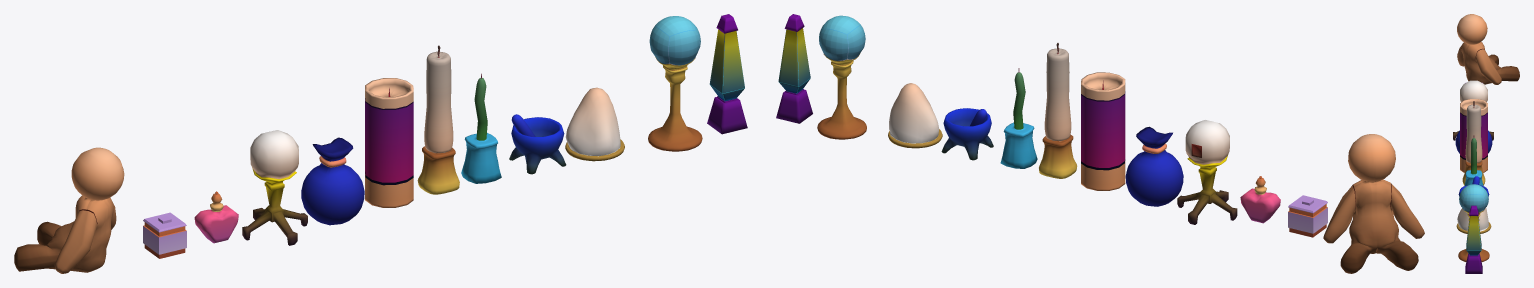
The model's file is Products.fbx.
3 renders of one model, left to right at view 1: azimuth 30°, elevation 25°; view 2: azimuth 150°, elevation 25°; view 3: azimuth 270°, elevation 25°, orthographic. The views are drawn at different scales.
Parts seen in each view (by area): view 1: VoodooDoll, SpiritCandle, MagicBall, CHONKYCandle, BagOlCrystals, MagicEye, LavaLamp, SaltRock, SkinnyCandle, Motar, HerbalTeaBox, LovePotion; view 2: VoodooDoll, SpiritCandle, MagicBall, CHONKYCandle, BagOlCrystals, MagicEye, LavaLamp, SaltRock, SkinnyCandle, Motar, HerbalTeaBox, LovePotion; view 3: VoodooDoll, SpiritCandle, CHONKYCandle, LavaLamp, MagicBall, MagicEye, SaltRock, SkinnyCandle, BagOlCrystals, Motar, MotarThingy.
Boxes of the visible parts, x1=… form: VoodooDoll: x1=14, y1=147, x2=124, y2=273; SpiritCandle: x1=365, y1=78, x2=413, y2=207; MagicBall: x1=648, y1=16, x2=702, y2=151; CHONKYCandle: x1=417, y1=45, x2=459, y2=194; BagOlCrystals: x1=301, y1=137, x2=364, y2=225; MagicEye: x1=242, y1=130, x2=307, y2=245; LavaLamp: x1=707, y1=14, x2=747, y2=134; SaltRock: x1=565, y1=87, x2=624, y2=161; SkinnyCandle: x1=461, y1=73, x2=501, y2=183; Motar: x1=509, y1=117, x2=566, y2=174; HerbalTeaBox: x1=143, y1=212, x2=186, y2=258; LovePotion: x1=194, y1=191, x2=238, y2=243; VoodooDoll: x1=1323, y1=134, x2=1424, y2=273; SpiritCandle: x1=1081, y1=72, x2=1125, y2=190; MagicBall: x1=817, y1=15, x2=866, y2=139; CHONKYCandle: x1=1039, y1=43, x2=1077, y2=178; BagOlCrystals: x1=1125, y1=126, x2=1183, y2=206; MagicEye: x1=1177, y1=120, x2=1237, y2=224; LavaLamp: x1=776, y1=14, x2=812, y2=123; SaltRock: x1=888, y1=83, x2=942, y2=148; SkinnyCandle: x1=1000, y1=68, x2=1037, y2=168; Motar: x1=941, y1=108, x2=993, y2=160; HerbalTeaBox: x1=1288, y1=195, x2=1327, y2=237; LovePotion: x1=1240, y1=176, x2=1280, y2=223; VoodooDoll: x1=1457, y1=14, x2=1519, y2=84; SpiritCandle: x1=1460, y1=99, x2=1487, y2=172; CHONKYCandle: x1=1462, y1=101, x2=1485, y2=185; LavaLamp: x1=1465, y1=205, x2=1482, y2=273; MagicBall: x1=1458, y1=184, x2=1489, y2=261; MagicEye: x1=1453, y1=80, x2=1493, y2=140; SaltRock: x1=1456, y1=207, x2=1491, y2=233; SkinnyCandle: x1=1464, y1=135, x2=1483, y2=185; BagOlCrystals: x1=1455, y1=130, x2=1492, y2=153; Motar: x1=1458, y1=185, x2=1489, y2=206; MotarThingy: x1=1472, y1=176, x2=1479, y2=184.
Bounding box in the file's own units: 5496 × 1141 × 772.
